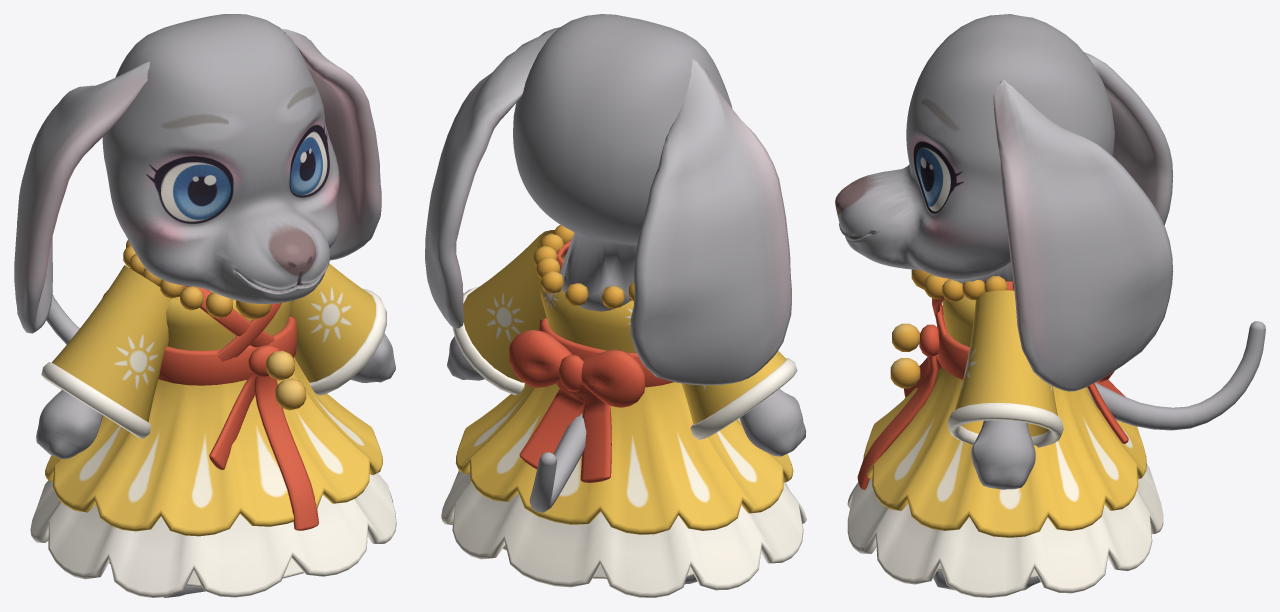
The model's file is stella-toy.glb.
The picture shows the model from 3 angles, left to right: view 1: azimuth 30°, elevation 25°; view 2: azimuth 150°, elevation 25°; view 3: azimuth 270°, elevation 25°; orthographic projection.
Parts seen in each view (by area): view 1: Stella_head, Stella_skirt_outer, Stella_skirt_mid, Stella_body, Stella_ear_R, Stella_sleeve_R, Stella_ear_L, Stella_sleeve_L, Stella_obi_tails, Stella_eye_R, Stella_arm_R, Stella_eye_L (+2 smaller); view 2: Stella_ear_R, Stella_head, Stella_skirt_outer, Stella_skirt_mid, Stella_bow, Stella_ear_L, Stella_sleeve_L, Stella_body, Stella_sleeve_R, Stella_arm_R, Stella_tail, Stella_arm_L; view 3: Stella_ear_L, Stella_head, Stella_skirt_outer, Stella_skirt_mid, Stella_sleeve_L, Stella_body, Stella_ear_R, Stella_tail, Stella_arm_L, Stella_obi_tails, Stella_eye_L, Stella_bow.
Boxes of the visible parts, bbox=[...] form: Stella_head: bbox=[102, 14, 339, 303]; Stella_skirt_outer: bbox=[45, 357, 382, 536]; Stella_skirt_mid: bbox=[30, 473, 396, 597]; Stella_body: bbox=[123, 240, 306, 597]; Stella_ear_R: bbox=[14, 61, 150, 333]; Stella_sleeve_R: bbox=[41, 265, 171, 438]; Stella_ear_L: bbox=[281, 29, 381, 260]; Stella_sleeve_L: bbox=[289, 263, 386, 395]; Stella_obi_tails: bbox=[209, 373, 318, 530]; Stella_eye_R: bbox=[160, 162, 230, 221]; Stella_arm_R: bbox=[36, 390, 102, 459]; Stella_eye_L: bbox=[290, 131, 327, 195]; Stella_ear_R: bbox=[630, 59, 791, 385]; Stella_head: bbox=[513, 14, 732, 311]; Stella_skirt_outer: bbox=[456, 382, 793, 534]; Stella_skirt_mid: bbox=[441, 470, 806, 597]; Stella_bow: bbox=[509, 330, 644, 482]; Stella_ear_L: bbox=[425, 27, 560, 328]; Stella_sleeve_L: bbox=[452, 230, 554, 395]; Stella_body: bbox=[534, 225, 697, 584]; Stella_sleeve_R: bbox=[681, 350, 797, 440]; Stella_arm_R: bbox=[739, 389, 805, 456]; Stella_tail: bbox=[529, 413, 586, 512]; Stella_arm_L: bbox=[447, 336, 484, 380]; Stella_ear_L: bbox=[993, 80, 1173, 391]; Stella_head: bbox=[835, 14, 1114, 283]; Stella_skirt_outer: bbox=[863, 367, 1146, 537]; Stella_skirt_mid: bbox=[847, 464, 1163, 597]; Stella_sleeve_L: bbox=[947, 290, 1063, 447]; Stella_body: bbox=[890, 269, 1040, 590]; Stella_ear_R: bbox=[1084, 52, 1172, 225]; Stella_tail: bbox=[1087, 321, 1265, 430]; Stella_arm_L: bbox=[971, 420, 1035, 489]; Stella_obi_tails: bbox=[857, 354, 941, 489]; Stella_eye_L: bbox=[916, 147, 950, 211]; Stella_bow: bbox=[1087, 371, 1128, 443].
Size of the model in its own units: 0.8566 by 1.24 by 0.9221.
Materials: 1 (1 with a texture image).
